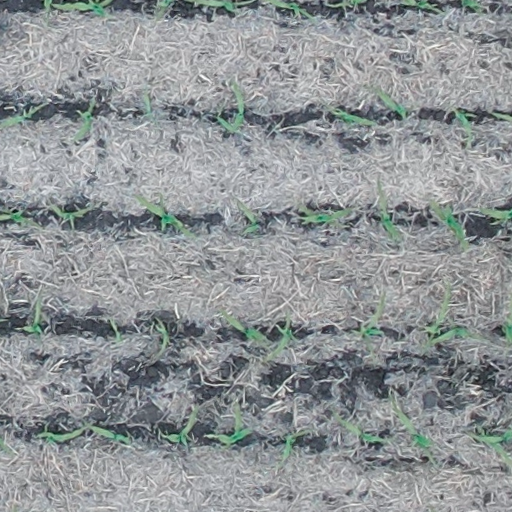planta: (388, 393, 438, 467), (133, 192, 196, 238), (430, 199, 469, 250), (208, 403, 253, 445), (355, 293, 385, 356), (220, 309, 270, 344), (333, 415, 391, 444), (159, 405, 199, 447), (376, 181, 400, 241), (296, 202, 352, 227), (476, 424, 511, 464), (267, 313, 297, 358), (422, 286, 450, 334), (16, 291, 43, 338), (277, 429, 309, 467), (82, 422, 132, 446), (451, 107, 480, 146), (425, 328, 487, 346), (328, 105, 378, 127), (375, 86, 408, 119), (48, 203, 93, 227), (36, 422, 87, 443), (232, 196, 258, 235), (72, 99, 96, 141), (229, 79, 245, 133), (153, 319, 168, 362), (477, 206, 511, 224), (216, 101, 231, 131), (141, 89, 156, 119), (108, 319, 122, 348)
